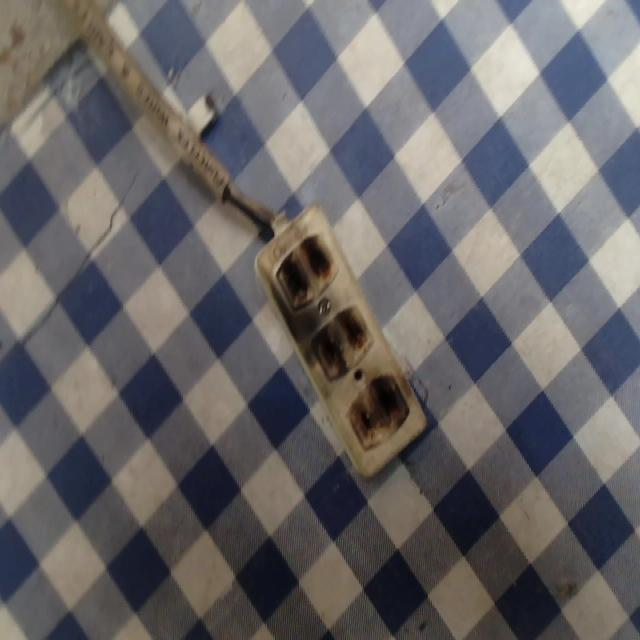-: (306, 304, 373, 380), (273, 231, 333, 308), (347, 374, 408, 449)
